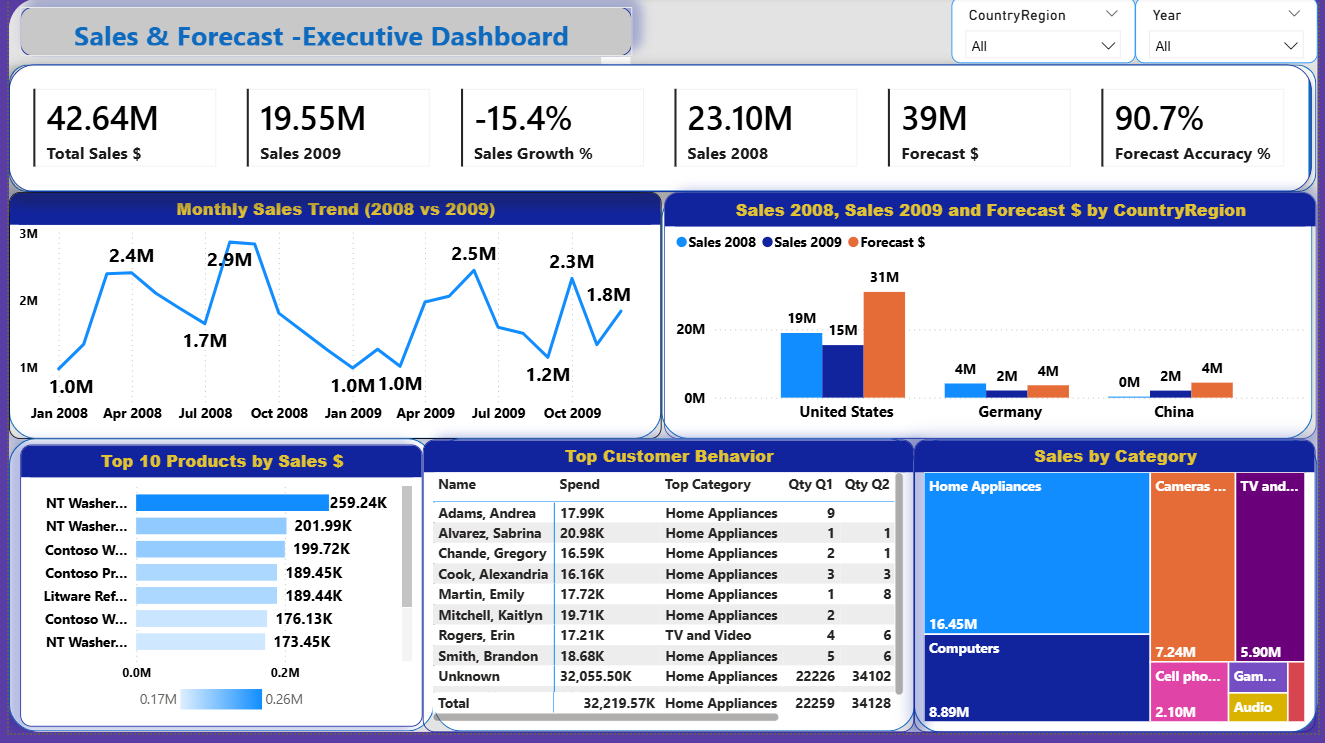

What the dashboard file says about the page in this screenshot:
{"tool":"powerbi","page":{"name":"Overview","canvas":[1280,720],"ordinal":0},"visuals":[{"type":"shape","box":[0,1.4,1280.3,717.7],"z":0},{"type":"textbox","box":[11,9.6,598.3,48],"z":1000},{"type":"shape","box":[0,190.7,638.1,241.5],"z":2000},{"type":"shape","box":[638.1,190.7,636.7,241.5],"z":3000},{"type":"lineChart","title":"Monthly Sales Trend (2008 vs  2009)","fields":{"Category":["dim_date.YearMonth"],"Y":["_Measures.Total Sales $"]},"box":[0,190.7,638.1,241.5],"z":4000},{"type":"shape","box":[0,432.2,415.8,286.8],"z":5000},{"type":"shape","box":[0,65.9,1278.9,124.9],"z":6000},{"type":"cardVisual","fields":{"Data":["_Measures.Total Sales $","_Measures.Sales 2009","_Measures.Sales Growth %","_Measures.Sales 2008","_Measures.Forecast $","_Measures.Forecast Accuracy %"]},"box":[0,65.9,1274.8,124.9],"z":7000},{"type":"clusteredBarChart","title":"Top 10 Products by Sales $","fields":{"Y":["_Measures.Total Sales $"],"Category":["dim_product.ProductName"]},"box":[11,437.7,393.8,275.8],"z":8000},{"type":"slicer","fields":{"Values":["dim_date.Year"]},"box":[1101.9,0,178.4,64.5],"z":9000},{"type":"slicer","fields":{"Values":["dim_geography.CountryRegion"]},"box":[922.1,0,179.8,64.5],"z":10000},{"type":"clusteredColumnChart","fields":{"Y":["_Measures.Sales 2008","_Measures.Sales 2009","_Measures.Forecast $"],"Category":["dim_geography.CountryRegion"]},"box":[640.8,190.7,638.1,241.5],"z":11000},{"type":"shape","box":[415.8,432.2,470.7,286.8],"z":12000},{"type":"shape","box":[885.9,432.9,394.4,286.6],"z":14000},{"type":"pivotTable","title":"Top Customer Behavior","fields":{"Rows":["dim_customer.Name"],"Values":["_Measures.Customer Total Spend","_Measures.Customer Top Category","_Measures.Qty Q1","_Measures.Qty Q2","_Measures.Qty Q3","_Measures.Qty Q4"]},"box":[405.2,432.9,480.7,286.6],"z":15000},{"type":"treemap","title":"Sales by Category","fields":{"Group":["dim_product.Category"],"Values":["_Measures.Total Sales $"]},"box":[885.9,432.9,392.9,286.6],"z":15001}]}

Visuals, with their boxes in screenshot pixels (x1, y1, x2, y2), scaled from the page's 1280x720 canvas onto the 1325x743 screenshot:
shape: (0, 1, 1324, 742)
textbox: (11, 10, 631, 59)
shape: (0, 197, 661, 446)
shape: (661, 197, 1320, 446)
"Monthly Sales Trend (2008 vs  2009)" lineChart: (0, 197, 661, 446)
shape: (0, 446, 430, 742)
shape: (0, 68, 1324, 197)
cardVisual - _Measures.Total Sales $ x _Measures.Sales 2009: (0, 68, 1320, 197)
"Top 10 Products by Sales $" clusteredBarChart: (11, 452, 419, 736)
slicer - dim_date.Year: (1141, 0, 1324, 67)
slicer - dim_geography.CountryRegion: (955, 0, 1141, 67)
clusteredColumnChart - _Measures.Sales 2008 x _Measures.Sales 2009: (663, 197, 1324, 446)
shape: (430, 446, 918, 742)
shape: (917, 447, 1324, 742)
"Top Customer Behavior" pivotTable: (419, 447, 917, 742)
"Sales by Category" treemap: (917, 447, 1324, 742)
